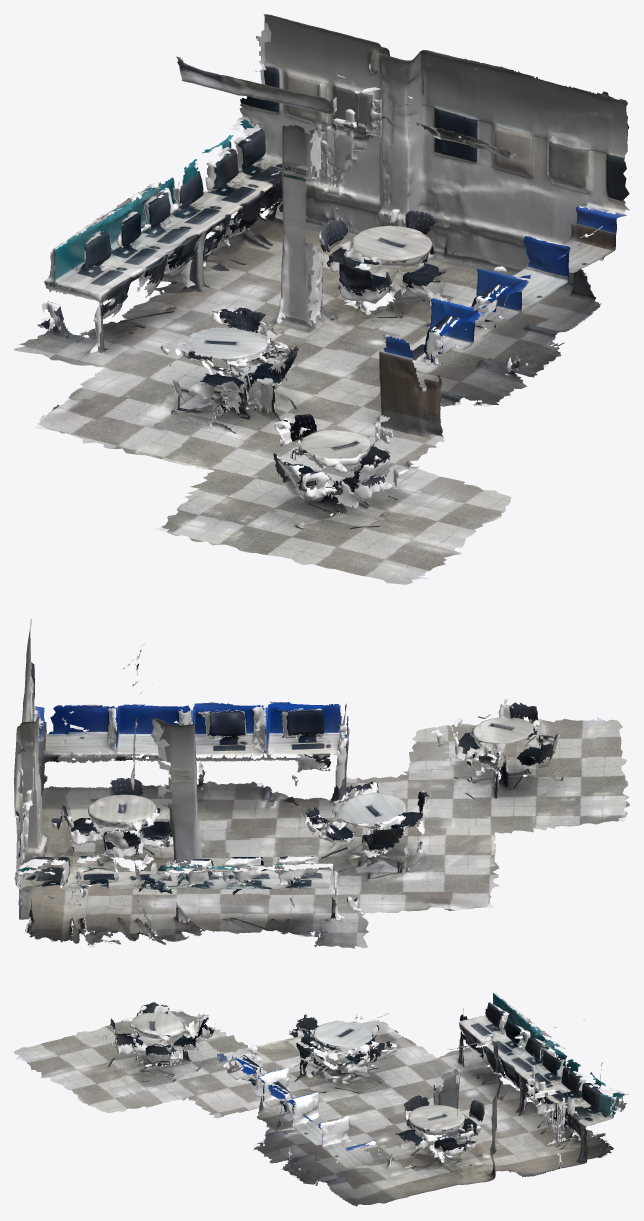
3 renders of one model, top to bottom at view 1: azimuth 30°, elevation 25°; view 2: azimuth 150°, elevation 25°; view 3: azimuth 270°, elevation 25°, orthographic. The views are drawn at different scales.
Visible parts, largest first — view 1: 5, 4, 8, 11, 2, 10, 1, 0, 7, 3, 9, 6; view 2: 11, 4, 0, 8, 1, 9, 2, 7, 3, 10, 5, 6; view 3: 4, 0, 1, 11, 8, 7, 3, 10, 9, 2, 5, 6.
Part boxes in pixels (x1,y1,x2,y2): 5: [222, 50, 577, 329]; 4: [175, 232, 511, 563]; 8: [161, 93, 528, 584]; 11: [37, 187, 357, 523]; 2: [139, 14, 435, 310]; 10: [157, 76, 629, 318]; 1: [69, 161, 629, 445]; 0: [35, 22, 615, 532]; 7: [101, 57, 422, 336]; 3: [48, 187, 401, 400]; 9: [188, 246, 570, 437]; 6: [14, 212, 227, 399]; 11: [147, 721, 569, 932]; 4: [97, 703, 620, 879]; 0: [14, 645, 625, 947]; 8: [16, 702, 629, 938]; 1: [34, 668, 499, 927]; 9: [75, 701, 372, 867]; 2: [14, 714, 239, 944]; 7: [17, 691, 343, 941]; 3: [104, 756, 386, 936]; 10: [19, 619, 220, 945]; 5: [14, 643, 196, 933]; 6: [142, 856, 427, 948]; 4: [70, 1003, 462, 1163]; 0: [102, 993, 628, 1179]; 1: [164, 1000, 505, 1206]; 11: [115, 1013, 559, 1098]; 8: [14, 1002, 628, 1177]; 7: [367, 1021, 619, 1175]; 3: [351, 994, 553, 1160]; 10: [360, 1067, 618, 1197]; 9: [216, 1040, 494, 1180]; 2: [465, 1020, 614, 1176]; 5: [363, 1016, 626, 1183]; 6: [396, 993, 544, 1122].
Size of the model in its own units: 7.69 by 2.63 by 9.97.
Materials: 12 (11 with a texture image).
